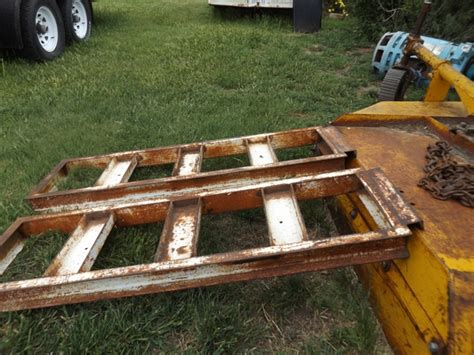Yard Ramp: (2, 126, 409, 309)
